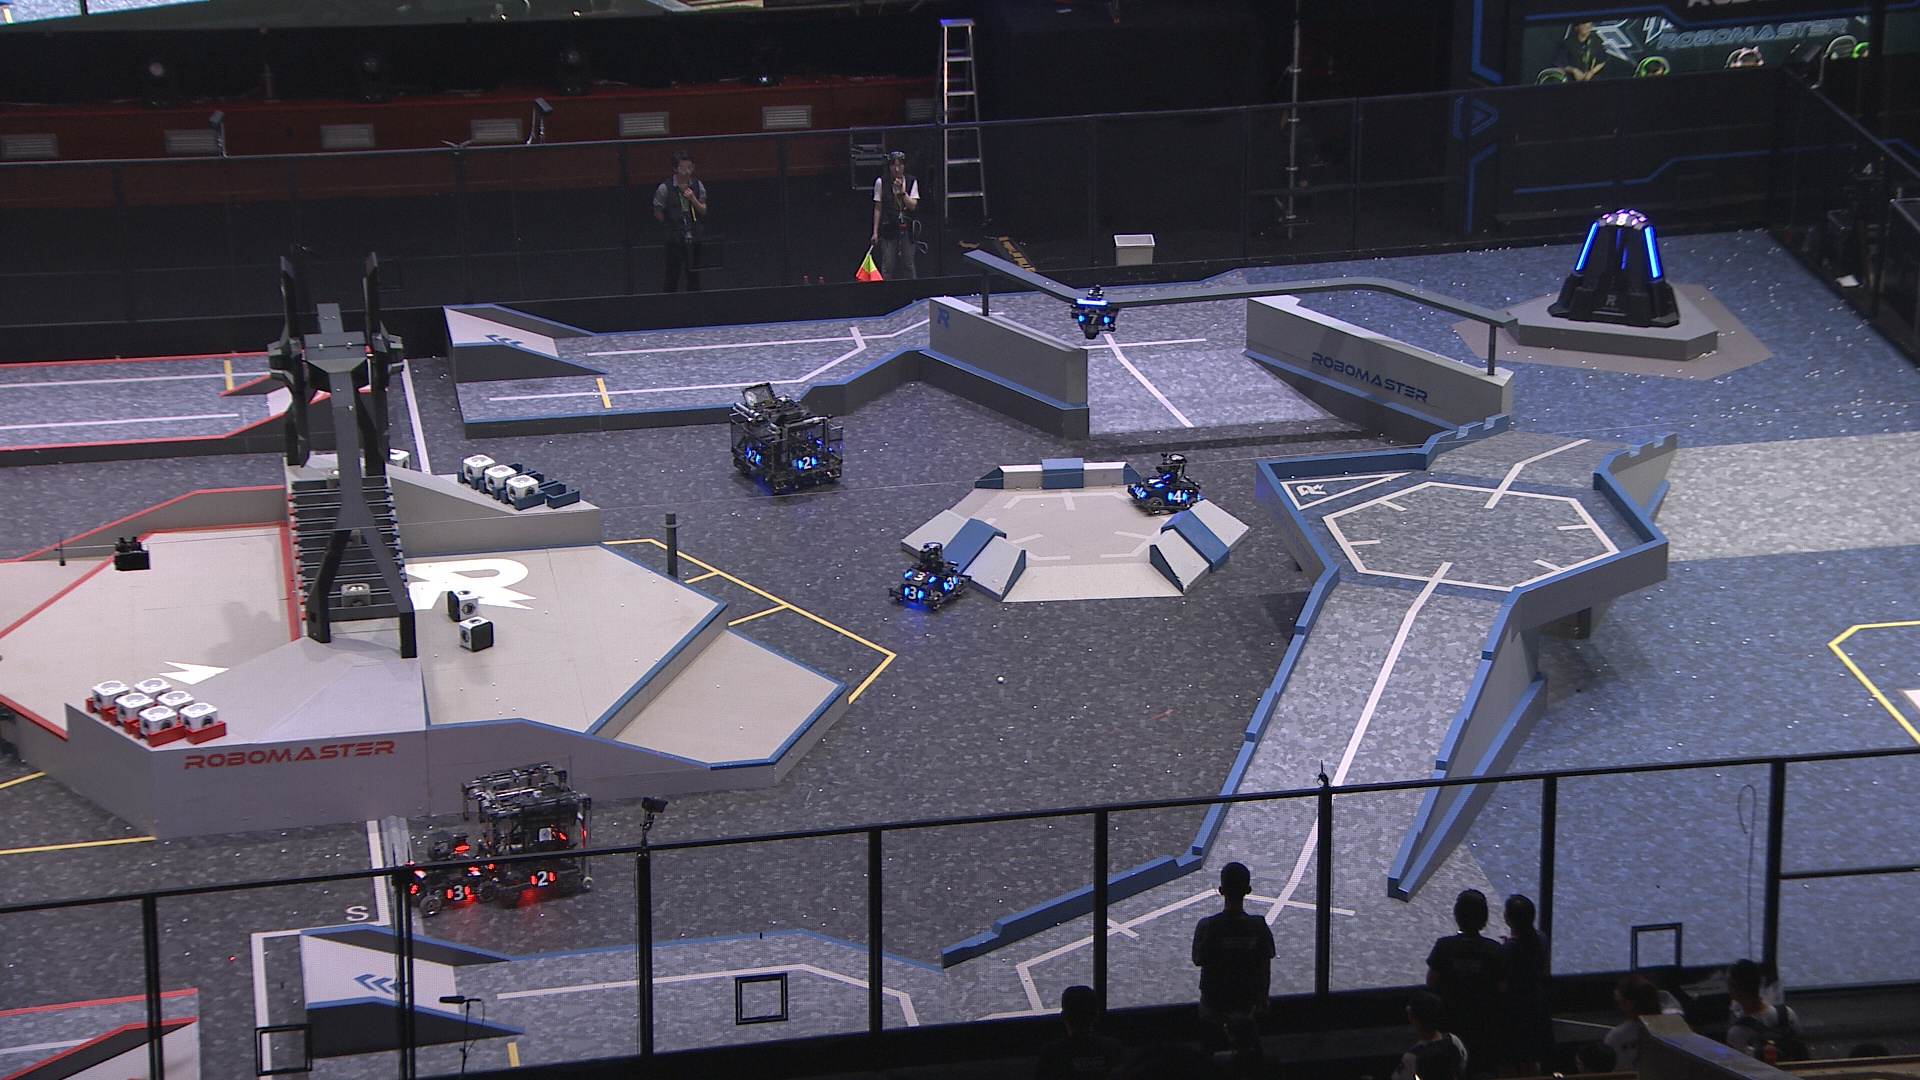armor: (1572, 218, 1602, 273), (1640, 225, 1664, 282), (527, 869, 555, 891), (1076, 311, 1110, 328), (444, 884, 472, 903), (906, 568, 936, 585), (476, 851, 498, 870), (795, 454, 818, 473), (902, 584, 923, 603), (1610, 228, 1625, 253), (942, 572, 959, 593), (1147, 472, 1164, 493), (1167, 488, 1189, 502), (1130, 483, 1149, 498), (745, 446, 761, 463)
base: (1547, 204, 1685, 328)
car: (468, 761, 605, 910), (723, 382, 847, 500), (392, 827, 496, 916), (885, 541, 971, 615), (1122, 446, 1207, 520)
ignore: (1604, 211, 1638, 225)
watcher: (1067, 285, 1121, 339)
